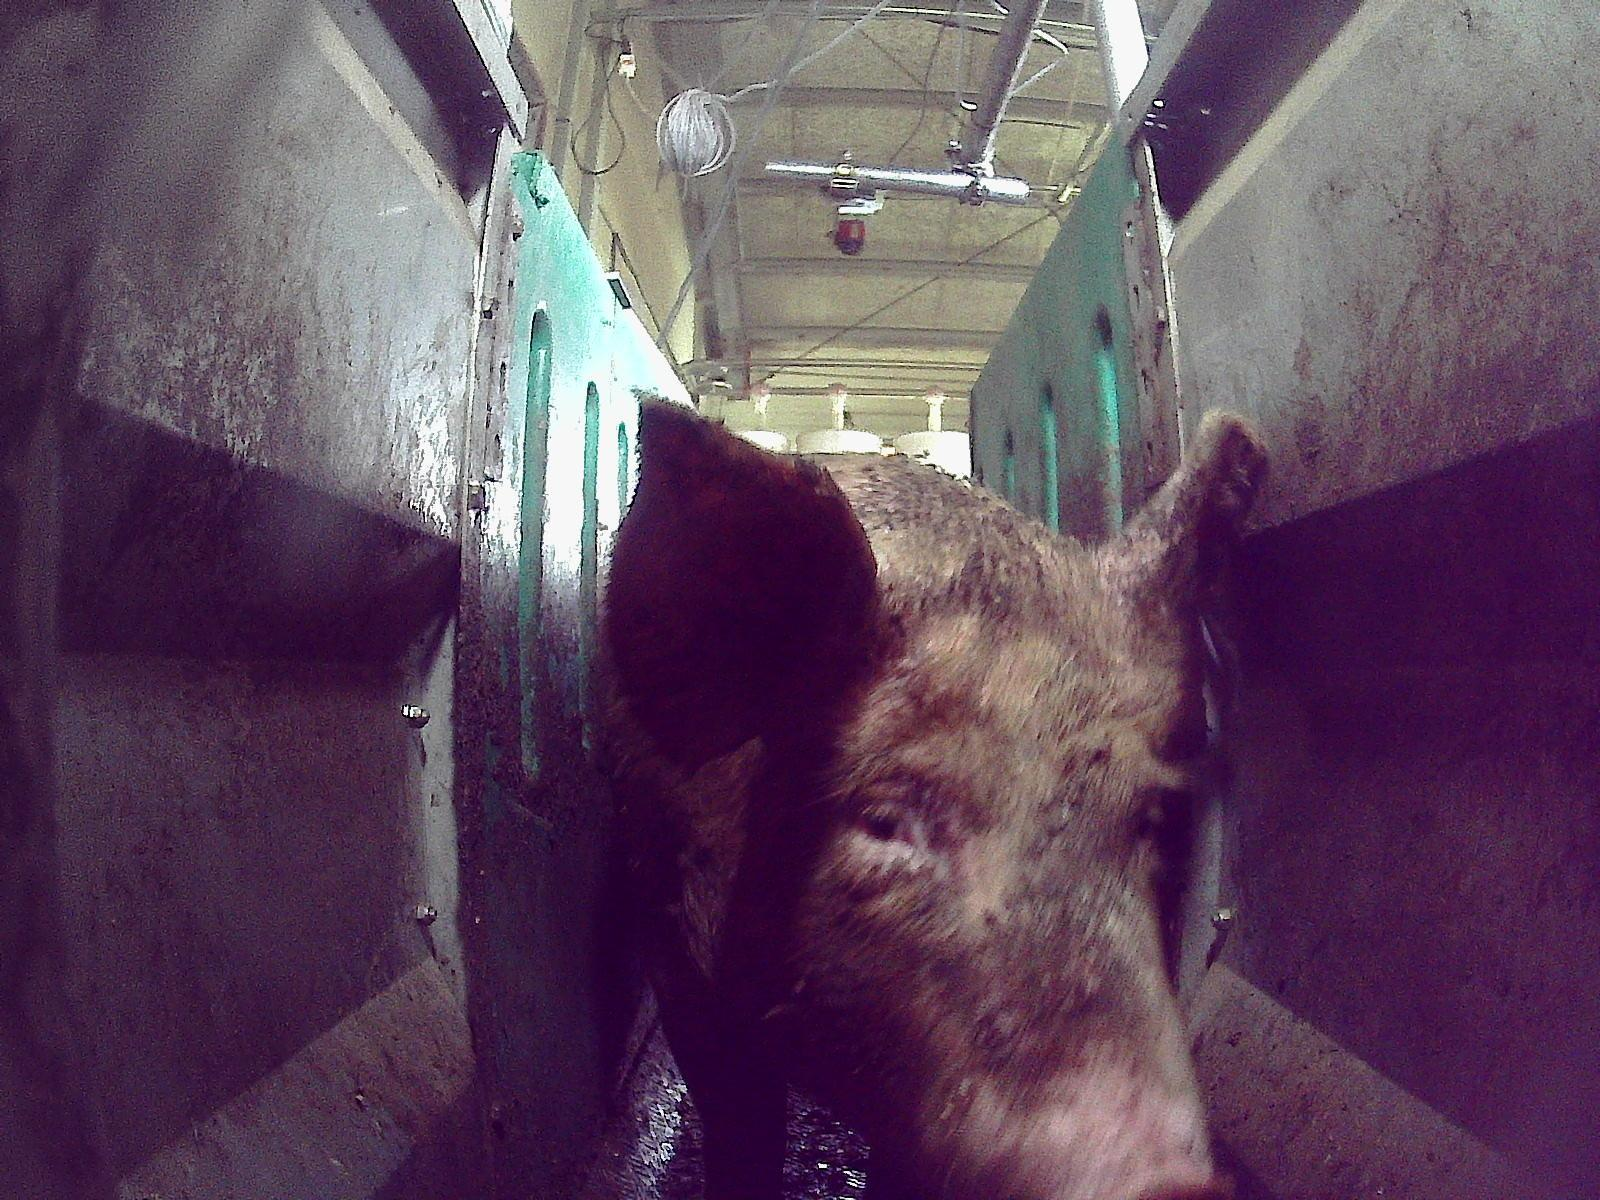Face: (723, 575, 1234, 1199)
